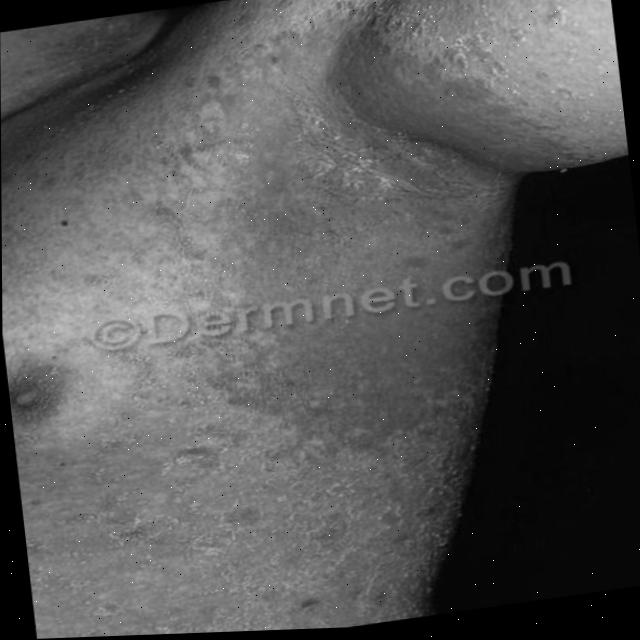Eczema: (186, 14, 575, 427)
